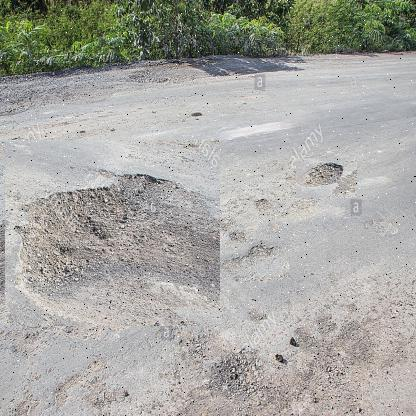damage: (5, 140, 222, 327)
pothole: (296, 158, 358, 199)
